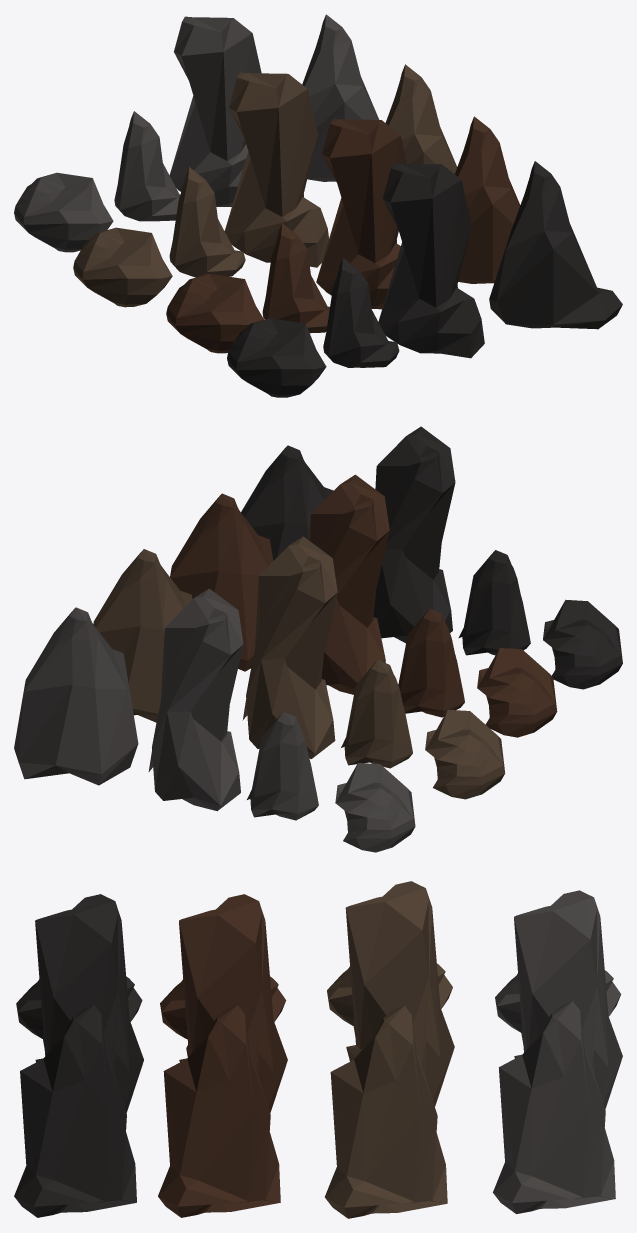
The model's file is Rocks_package.fbx.
3 renders of one model, top to bottom at view 1: azimuth 30°, elevation 25°; view 2: azimuth 150°, elevation 25°; view 3: azimuth 270°, elevation 25°, orthographic. The views are drawn at different scales.
Parts seen in each view (by area): view 1: Rock3 (×4), Rock4 (×4), Rock1 (×4), Rock2 (×4); view 2: Rock3 (×4), Rock4 (×4), Rock1 (×4), Rock2 (×4); view 3: Rock4 (×4), Rock3 (×4), Rock1 (×4).
Part boxes in pixels (box(x1,y1,x2,y2)): Rock3 (×4): box(169, 16, 484, 358); Rock4 (×4): box(302, 14, 622, 329); Rock1 (×4): box(14, 172, 326, 397); Rock2 (×4): box(114, 111, 399, 367); Rock3 (×4): box(148, 426, 455, 811); Rock4 (×4): box(14, 445, 333, 785); Rock1 (×4): box(335, 599, 622, 852); Rock2 (×4): box(247, 550, 530, 820); Rock4 (×4): box(14, 1001, 615, 1218); Rock3 (×4): box(35, 881, 622, 1112); Rock1 (×4): box(16, 963, 621, 1039).
Size of the model in its own units: 15.92 by 7.39 by 18.16.
